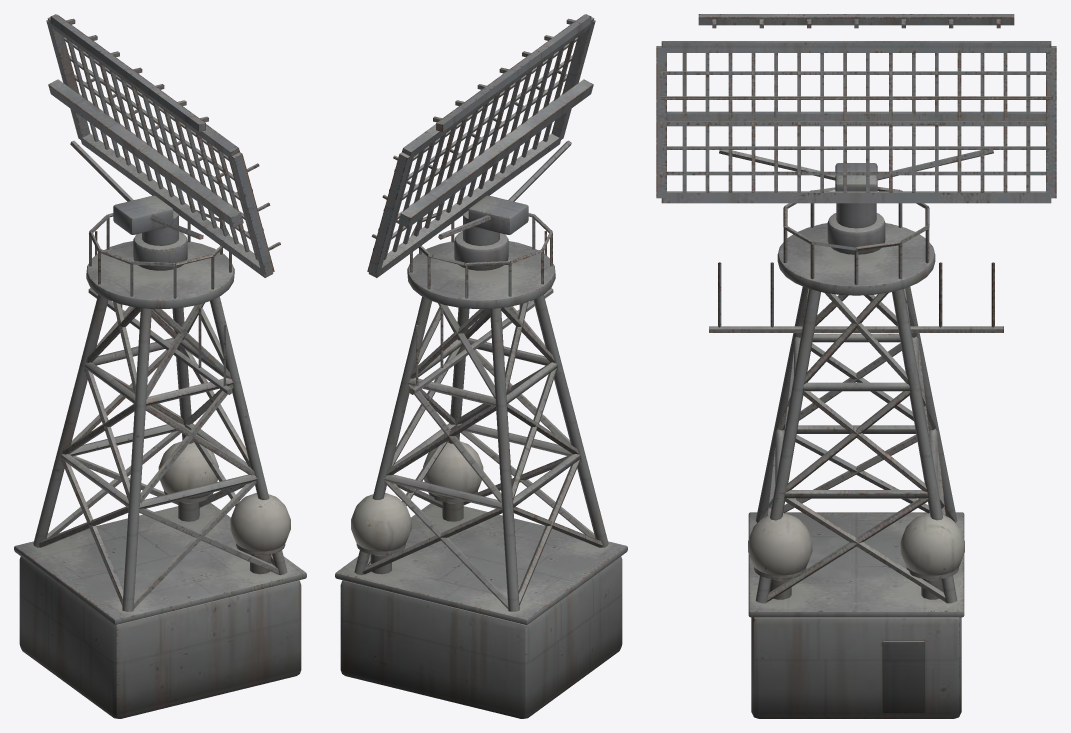
The model's file is fh_battle_e_lev_radar.glb.
3 views of the same model, side by side, from view 1: azimuth 30°, elevation 25°; view 2: azimuth 150°, elevation 25°; view 3: azimuth 270°, elevation 25° (orthographic). The views are drawn at different scales.
Parts seen in each view (by area): view 1: radar, antenna; view 2: radar, antenna; view 3: radar, antenna.
Part boxes in pixels (box(x1,y1,x2,y2)): radar: box(14, 210, 306, 718); antenna: box(46, 14, 280, 277); radar: box(335, 209, 627, 718); antenna: box(367, 14, 595, 277); radar: box(709, 187, 1003, 718); antenna: box(656, 14, 1056, 254).
Size of the model in its own units: 0.45 by 1.34 by 0.76.
1 material, 1 textured.
